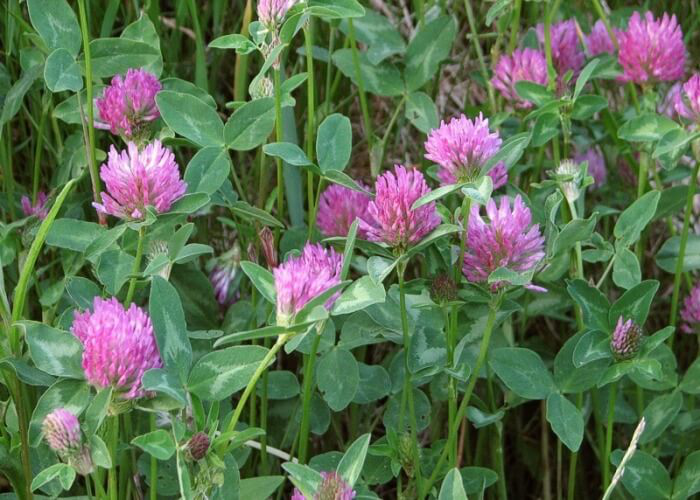clover blossom purple: (69, 295, 162, 403), (456, 194, 547, 297), (91, 139, 188, 227), (354, 161, 444, 251), (270, 242, 352, 331), (422, 112, 509, 191), (610, 7, 690, 86), (93, 65, 169, 136), (490, 47, 556, 108), (314, 181, 373, 239)
